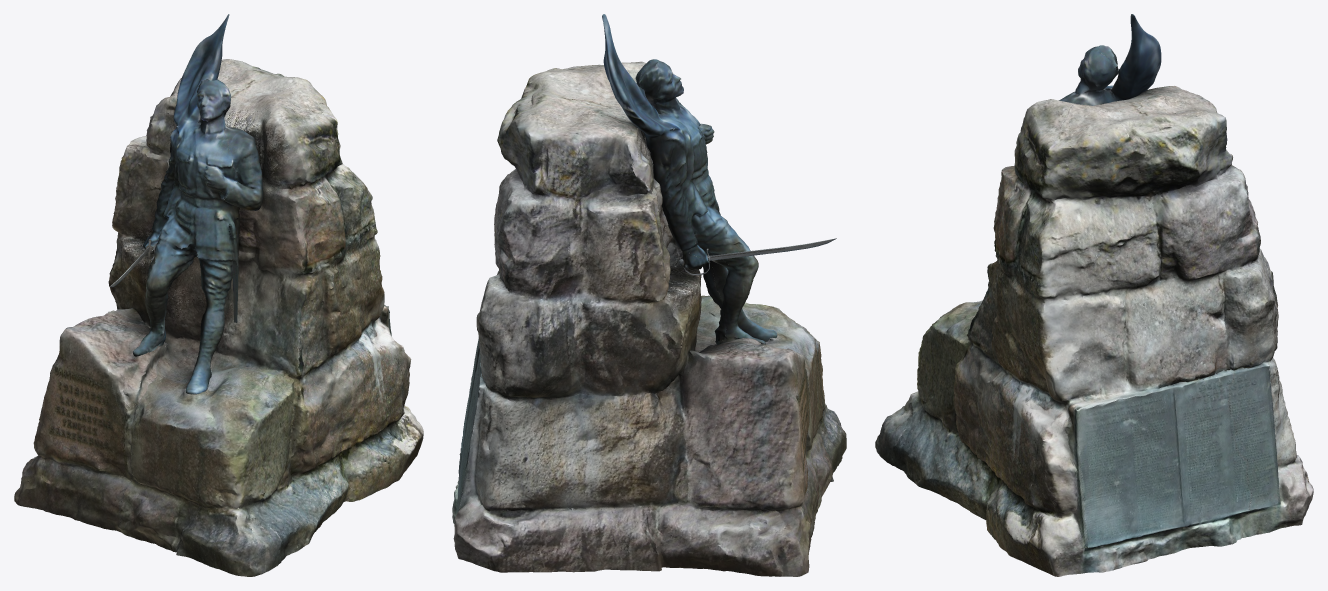
File: kuressaare.glb
3 renders of one model, left to right at view 1: azimuth 30°, elevation 25°; view 2: azimuth 150°, elevation 25°; view 3: azimuth 270°, elevation 25°, orthographic. The views are drawn at different scales.
Parts seen in each view (by area): view 1: Mesh, Mesh (2); view 2: Mesh, Mesh (2); view 3: Mesh, Mesh (2).
Part boxes in pixels (left/top/right/bottom): Mesh: left=14, top=59, right=423, bottom=576; Mesh (2): left=110, top=14, right=263, bottom=394; Mesh: left=452, top=61, right=846, bottom=576; Mesh (2): left=602, top=14, right=836, bottom=344; Mesh: left=875, top=86, right=1313, bottom=576; Mesh (2): left=1059, top=14, right=1161, bottom=105.
Size of the model in its own units: 2.99 by 3.62 by 2.98.
Materials: 2 (2 with a texture image).
